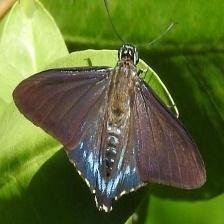butterfly: (12, 45, 207, 213)
